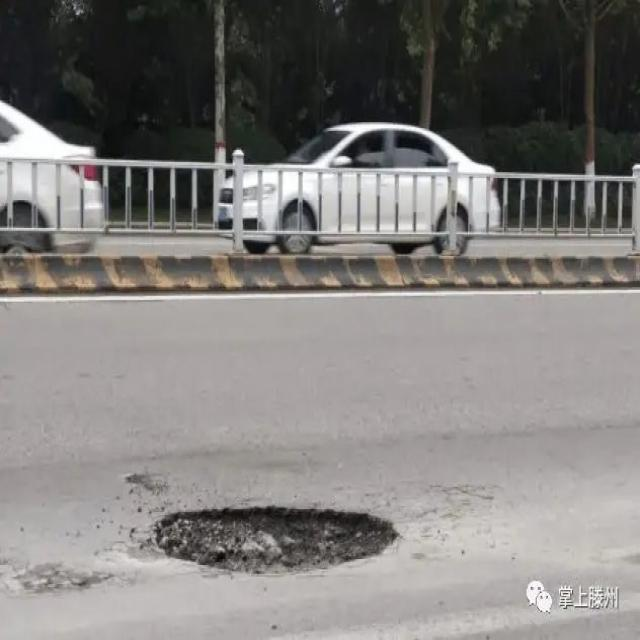Pothole: (146, 506, 401, 574)
